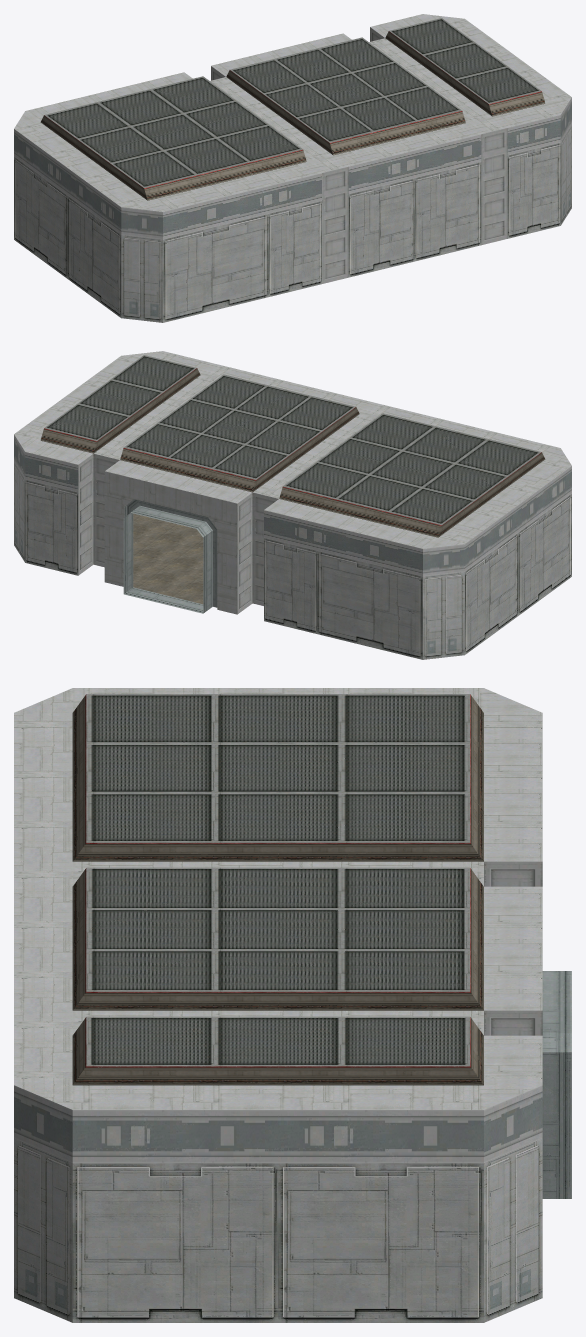
Rendered from mun_all_military_base_police_station_rebl_s01_r11_storage2_mesh_r11.fbx.
The picture shows the model from 3 angles, top to bottom: view 1: azimuth 30°, elevation 25°; view 2: azimuth 150°, elevation 25°; view 3: azimuth 270°, elevation 25°; orthographic projection. The views are drawn at different scales.
Visible parts, largest first — view 1: mesh_node; view 2: mesh_node; view 3: mesh_node.
Boxes of the visible parts, x1,y1,x2,y2 form: mesh_node: (14, 14, 571, 322); mesh_node: (14, 351, 571, 659); mesh_node: (14, 688, 571, 1322).
Bounding box in the file's own units: 17 × 4.36 × 9.5.
